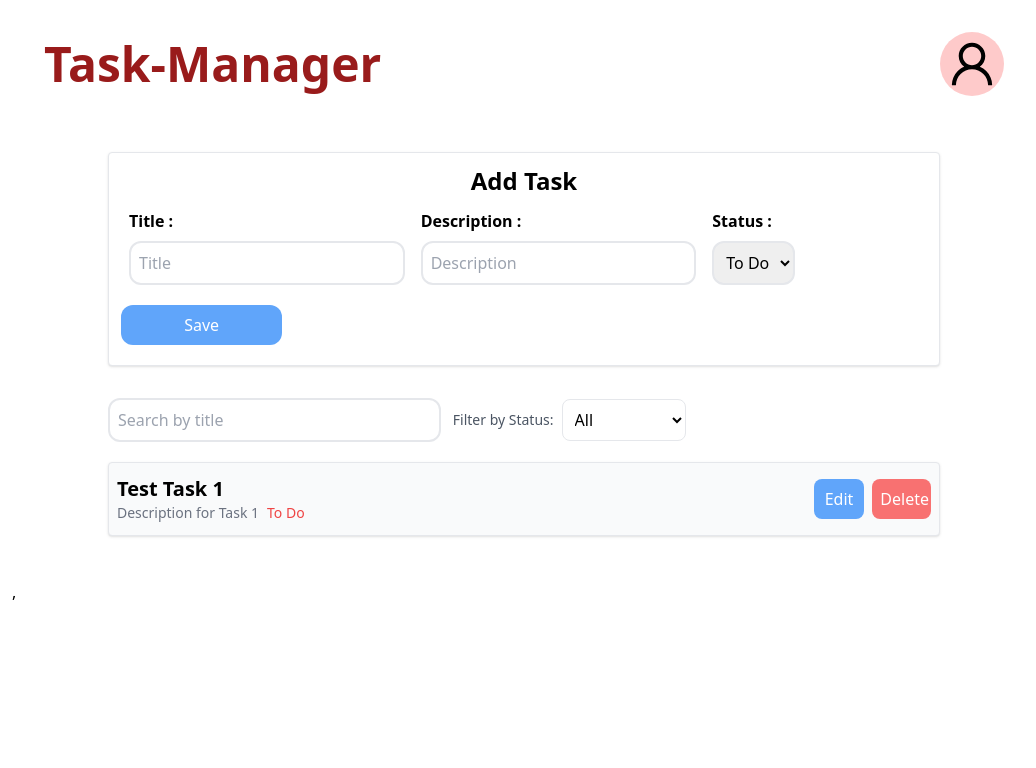
Scenario: Todo component › filters tasks by status
Check: the text "Test Task 1" is shown, box [117,475,224,502]
Step 1. Select "Done" in the dropdown labelled "Filter by Status:" → (624, 420), box [562,399,686,441]
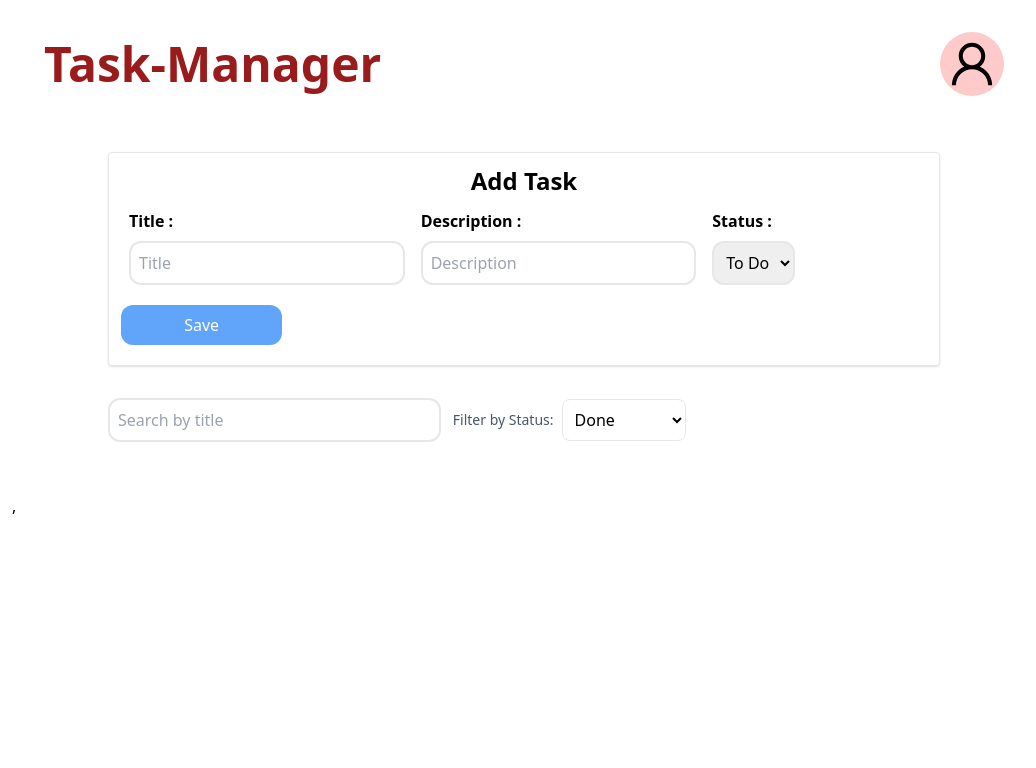
Check: the text "Task 1" is gone
